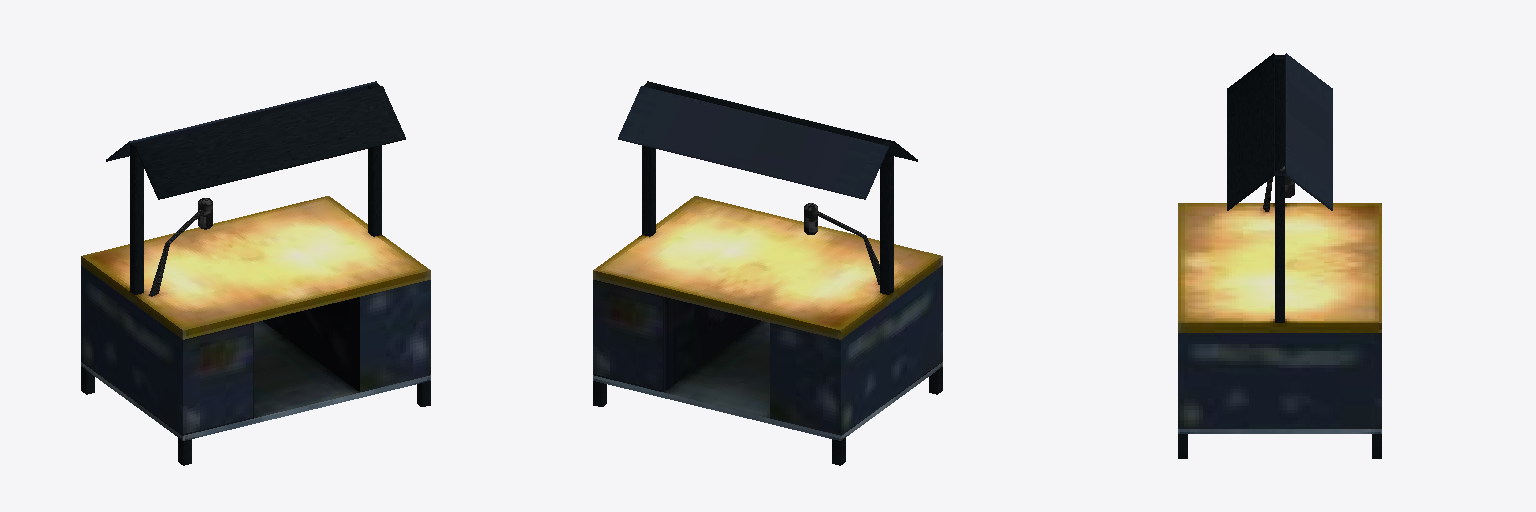
The picture shows the model from 3 angles: view 1: azimuth 30°, elevation 25°; view 2: azimuth 150°, elevation 25°; view 3: azimuth 270°, elevation 25°; orthographic projection.
Visible parts, largest first — view 1: Box01, Box07, Box03, Box15, Box02, Box10, ChamferCyl; view 2: Box01, Box03, Box10, Box15, Box02, Box07, ChamferCyl; view 3: Box01, Box15, Box07, Box10, Box02.
Part boxes in pixels (x1,y1,x2,y2): Box01: (81, 196, 430, 339); Box07: (81, 83, 430, 465); Box03: (81, 265, 253, 435); Box15: (263, 280, 430, 391); Box02: (81, 321, 430, 440); Box10: (106, 81, 376, 161); ChamferCyl: (149, 198, 212, 296); Box01: (593, 196, 942, 339); Box03: (770, 265, 942, 435); Box10: (618, 86, 888, 199); Box15: (593, 280, 760, 391); Box02: (593, 321, 942, 440); Box07: (593, 81, 942, 465); ChamferCyl: (804, 203, 879, 284); Box01: (1178, 203, 1381, 332); Box15: (1178, 333, 1381, 428); Box07: (1178, 53, 1381, 458); Box10: (1285, 53, 1332, 210); Box02: (1178, 429, 1381, 433).
Size of the model in its own units: 140 by 154 by 100.
Materials: 7 (7 with a texture image).